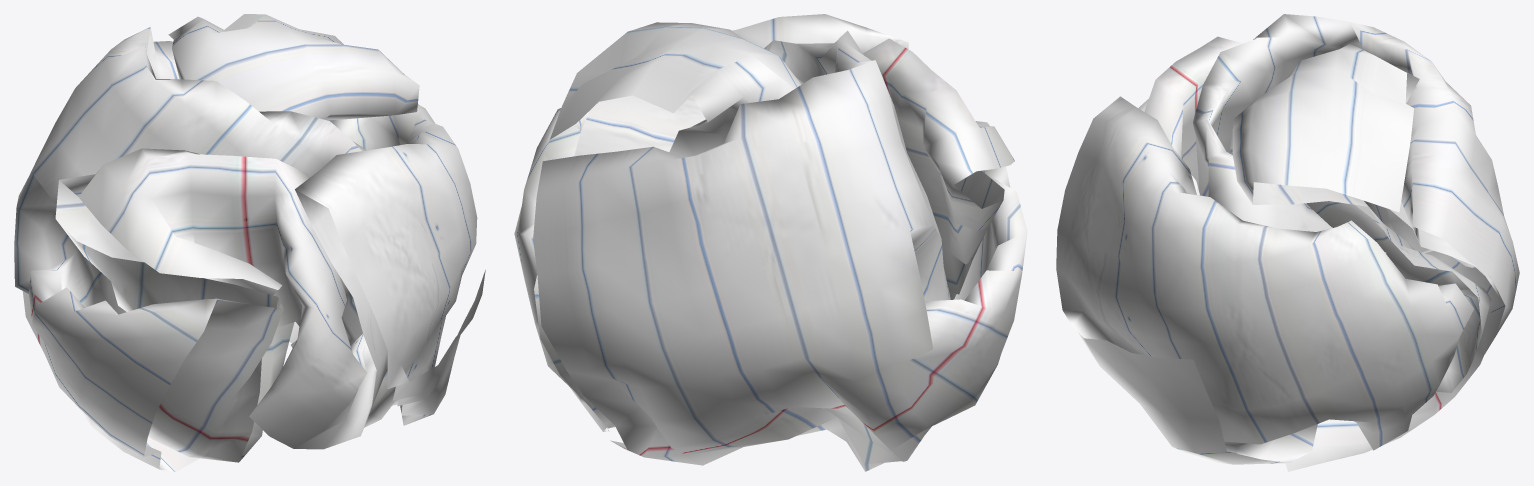
The model's file is crumpled-paper.fbx.
3 renders of one model, left to right at view 1: azimuth 30°, elevation 25°; view 2: azimuth 150°, elevation 25°; view 3: azimuth 270°, elevation 25°, orthographic. The views are drawn at different scales.
Parts seen in each view (by area): view 1: Plane; view 2: Plane; view 3: Plane.
Part boxes in pixels (x1,y1,x2,y2): Plane: [14, 14, 485, 471]; Plane: [514, 14, 1027, 471]; Plane: [1056, 14, 1519, 471].
Bounding box in the file's own units: 70.05 × 64.43 × 71.49.
